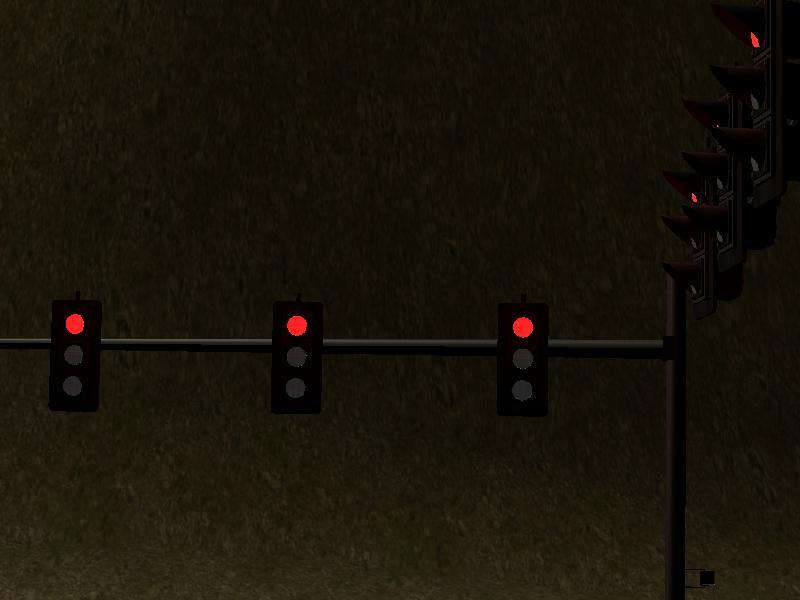Red: (497, 302, 549, 417), (51, 299, 98, 410), (272, 304, 318, 411)
